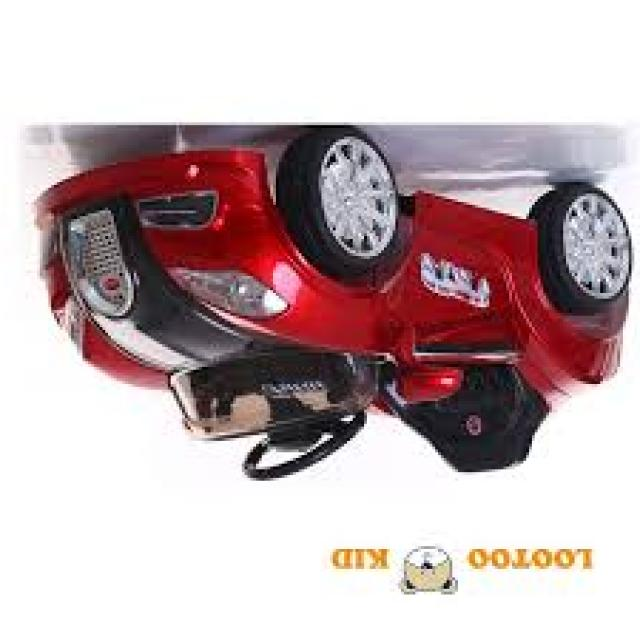Car: (34, 128, 634, 484)
